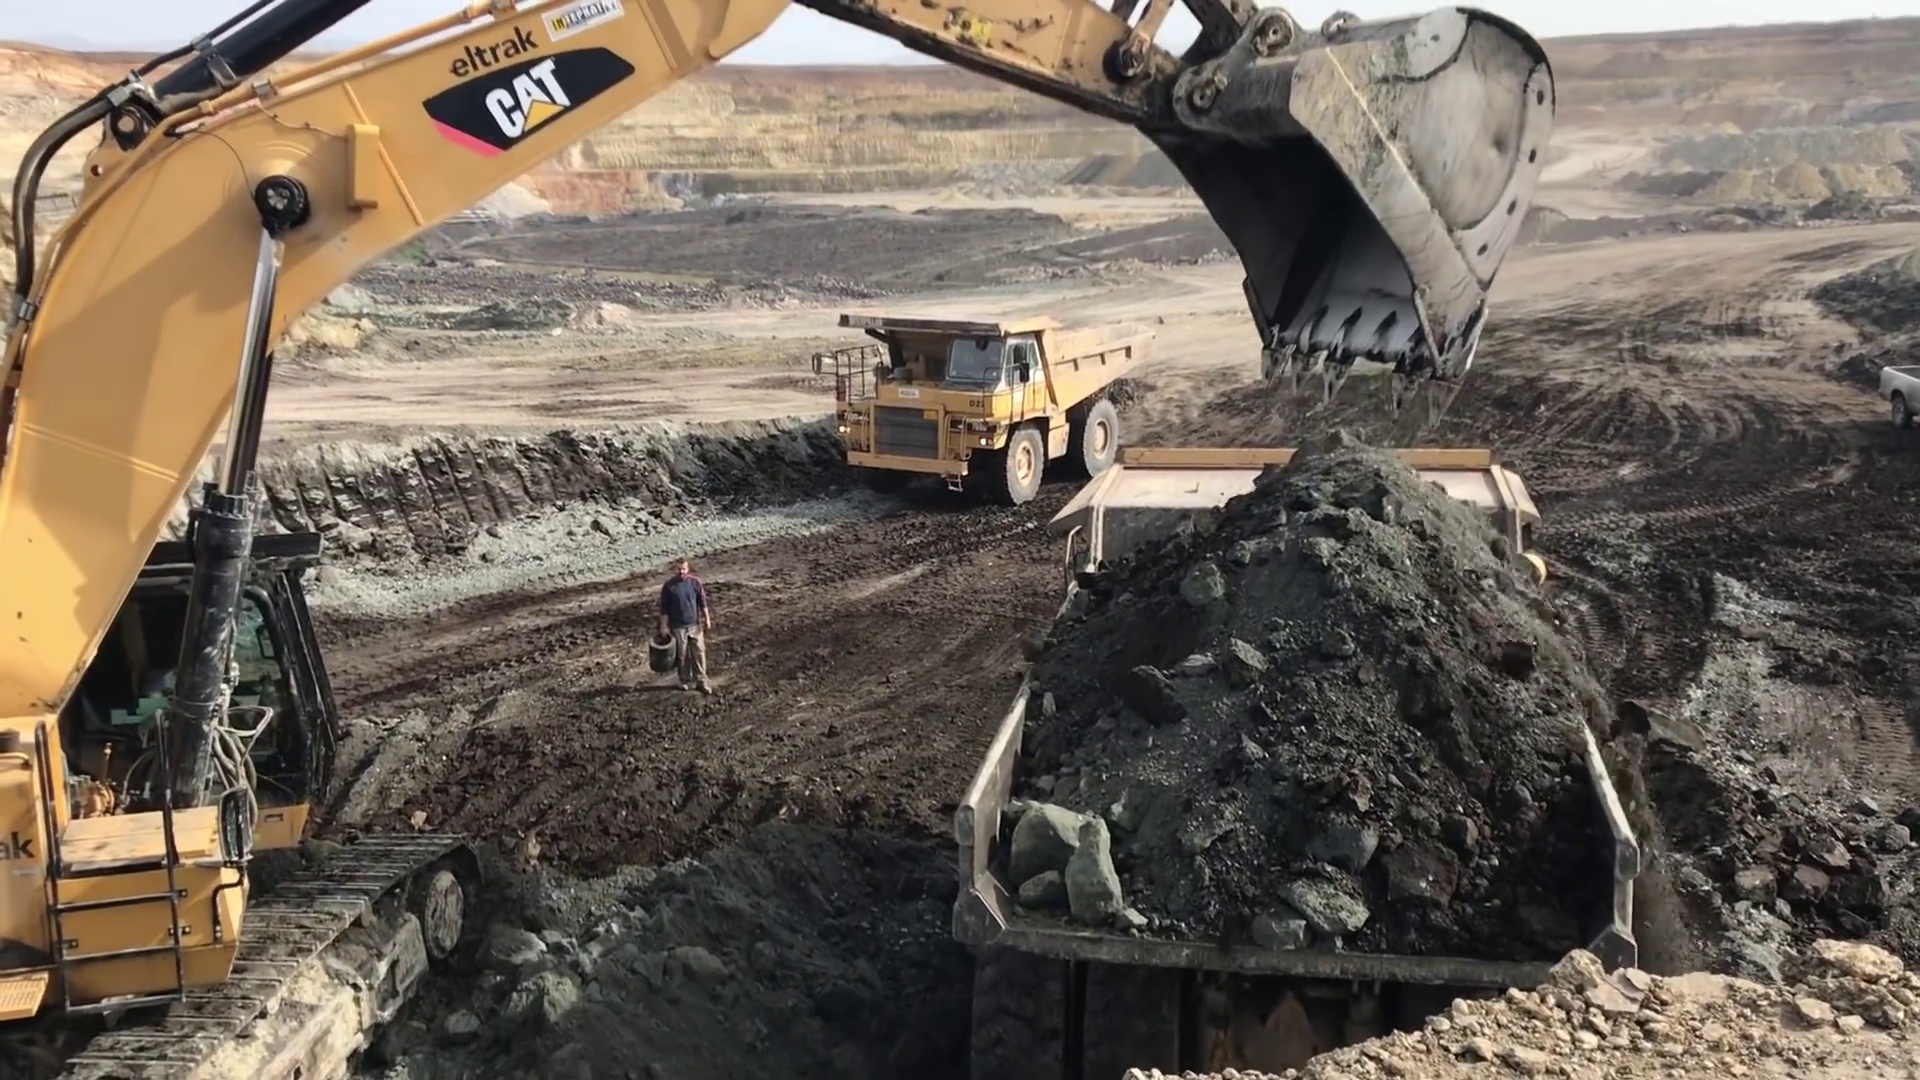dumper: (948, 442, 1660, 1080), (811, 309, 1139, 503)
excavator: (6, 1, 1562, 1080)
person: (657, 558, 712, 677)
